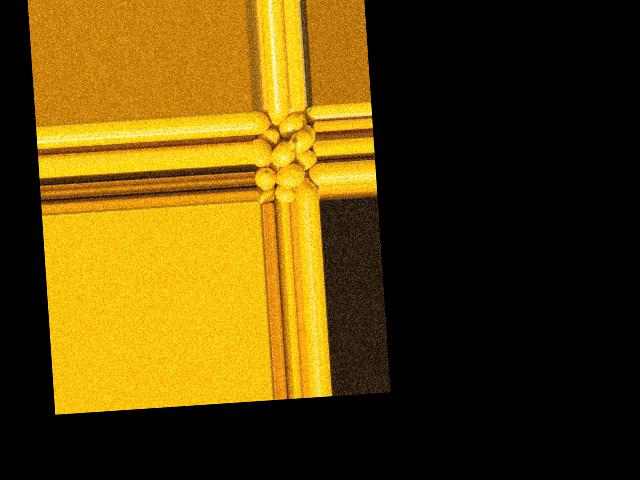lemon: (290, 126, 315, 151)
